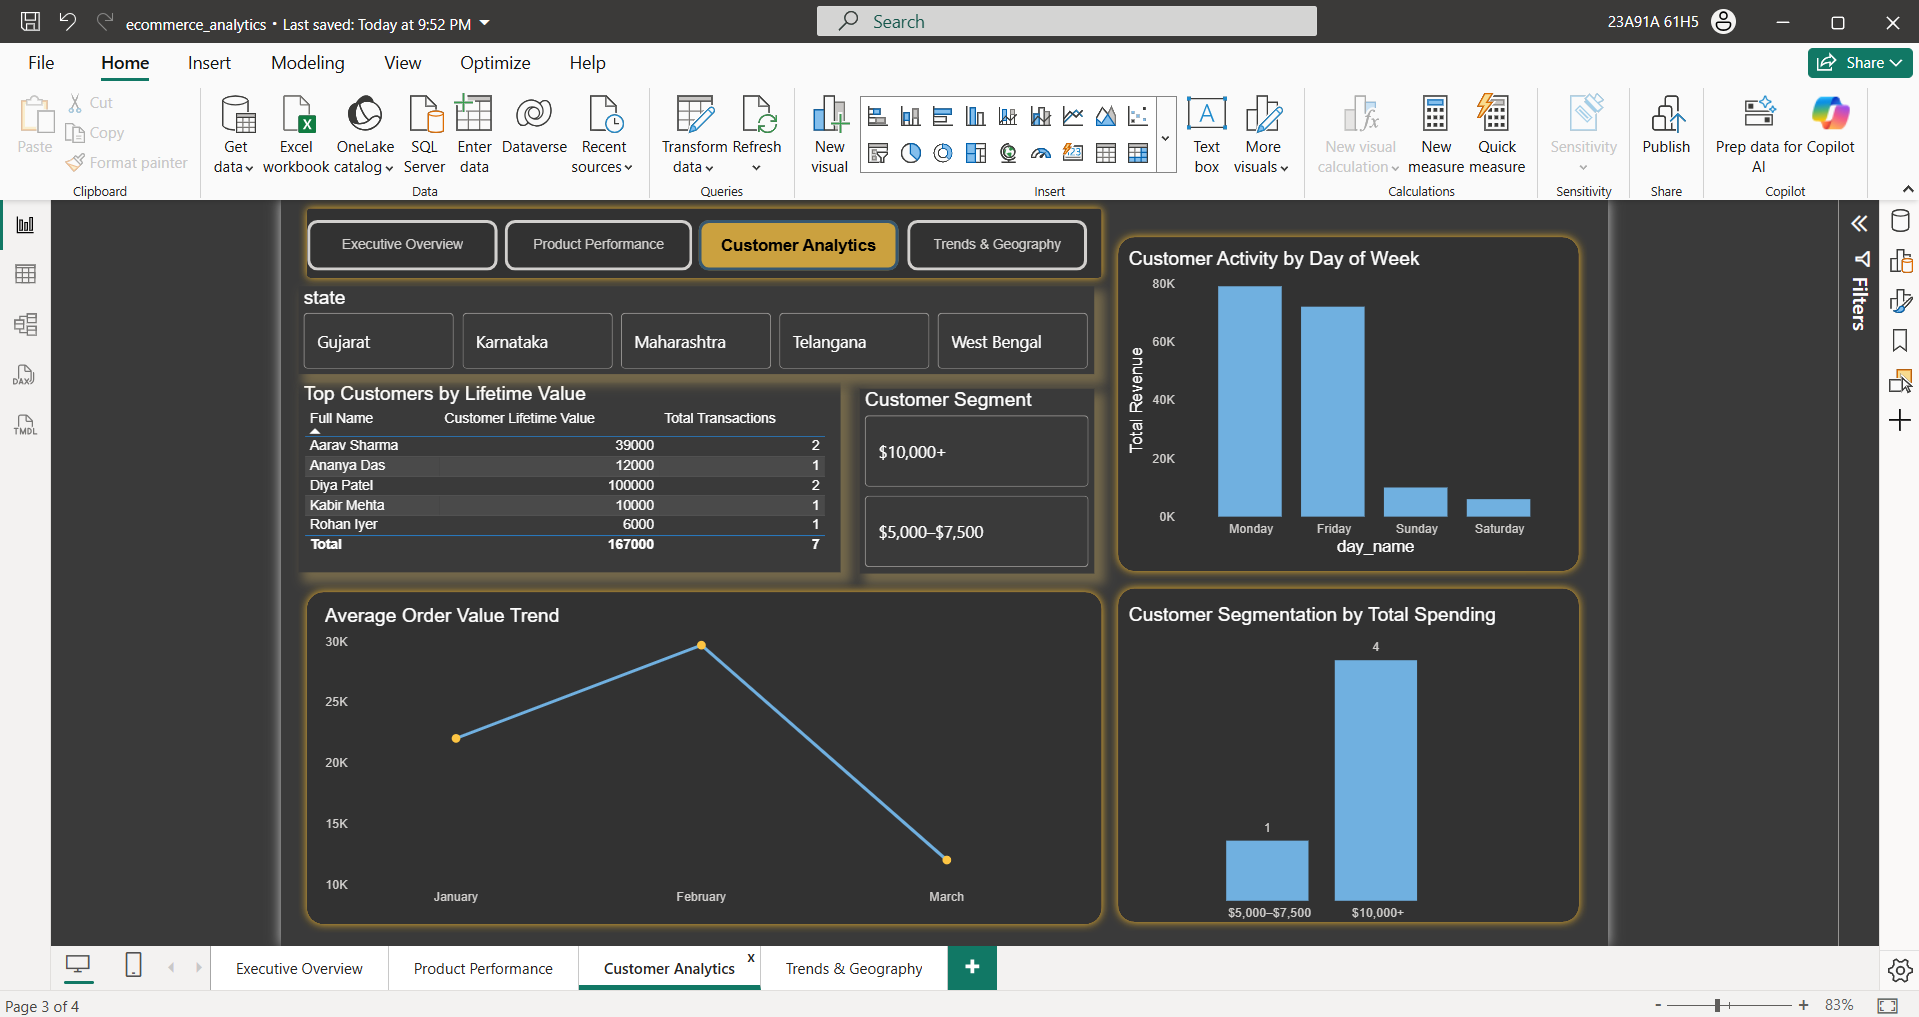

This screenshot's page, from the dashboard's own definition file:
{"tool":"powerbi","page":{"name":"Customer Analytics","canvas":[1280,720],"ordinal":2},"visuals":[{"type":"shape","box":[16.7,0,783.3,83.3],"z":0,"group":"g4"},{"type":"tableEx","title":"Top Customers by Lifetime Value","fields":{"Values":["dim_customers.Full Name","Measuress.Customer Lifetime Value","Measuress.Total Transactions"]},"box":[16.7,176.7,523.3,183.3],"z":0},{"type":"shape","box":[800,366.7,461,338.2],"z":0,"group":"g1"},{"type":"shape","box":[16.7,370,783.3,336.7],"z":0,"group":"g3"},{"type":"actionButton","box":[215.3,19.1,181.2,48.8],"z":1000,"group":"g4"},{"type":"group","id":"g1","title":"Group 1","box":[800,366.7,460,338.3],"z":1000},{"type":"clusteredColumnChart","title":"Customer Segmentation by Total Spending","fields":{"Category":["dim_customers.Customer Segment"],"Y":["CountNonNull(dim_customers.customer_key)"]},"box":[813,389.2,387.3,314.9],"z":1000,"group":"g1"},{"type":"actionButton","box":[402.5,19.1,193.2,48.8],"z":2000,"group":"g4"},{"type":"group","id":"g2","title":"Group 2","box":[800,28.3,461.7,338.3],"z":2000},{"type":"shape","box":[800,28.3,460.8,338.5],"z":2000,"group":"g2"},{"type":"actionButton","box":[604,19.1,173.7,48.8],"z":3000,"group":"g4"},{"type":"advancedSlicerVisual","fields":{"Values":["dim_customers.state"]},"box":[16.7,83.3,768.3,85],"z":3000},{"type":"actionButton","box":[25.2,19.3,183.7,48.8],"z":4000,"group":"g4"},{"type":"columnChart","title":"Customer Activity by Day of Week","fields":{"Category":["dim_date.day_name"],"Y":["Measuress.Total Revenue"]},"box":[813.3,46.1,432.5,302.6],"z":4000,"group":"g2"},{"type":"advancedSlicerVisual","fields":{"Values":["dim_customers.Customer Segment"]},"box":[558.3,181.7,226.7,178.3],"z":4000},{"type":"lineChart","title":"Average Order Value Trend","fields":{"Category":["dim_date.month_name"],"Y":["Measuress.Average Order Value"]},"box":[36.6,390.1,705.2,297.8],"z":4005,"group":"g3"},{"type":"group","id":"g3","title":"Group 3","box":[16.7,370,783.3,336.7],"z":5000},{"type":"group","id":"g4","title":"Group 4","box":[16.7,0,783.3,83.3],"z":6000}]}

Visuals, with their boxes on the page's 1280x720 design canvas (x1, y1, x2, y2). These are canvas units, not pixel positions in the 1919x1017 screenshot, which may show the page scaled, cropped or inside an application window:
shape: region(17, 0, 800, 83)
"Top Customers by Lifetime Value" tableEx: region(17, 177, 540, 360)
shape: region(800, 367, 1261, 705)
shape: region(17, 370, 800, 707)
actionButton: region(215, 19, 396, 68)
"Group 1" group: region(800, 367, 1260, 705)
"Customer Segmentation by Total Spending" clusteredColumnChart: region(813, 389, 1200, 704)
actionButton: region(402, 19, 596, 68)
"Group 2" group: region(800, 28, 1262, 367)
shape: region(800, 28, 1261, 367)
actionButton: region(604, 19, 778, 68)
advancedSlicerVisual - dim_customers.state: region(17, 83, 785, 168)
actionButton: region(25, 19, 209, 68)
"Customer Activity by Day of Week" columnChart: region(813, 46, 1246, 349)
advancedSlicerVisual - dim_customers.Customer Segment: region(558, 182, 785, 360)
"Average Order Value Trend" lineChart: region(37, 390, 742, 688)
"Group 3" group: region(17, 370, 800, 707)
"Group 4" group: region(17, 0, 800, 83)
